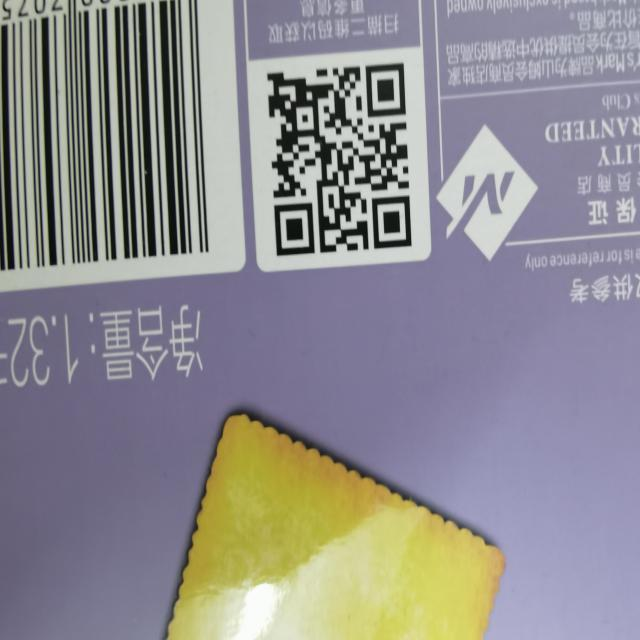qr_code: (267, 63, 412, 255)
